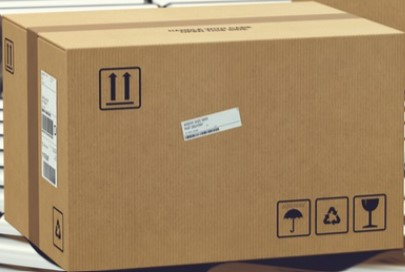stock: (4, 5, 403, 272)
